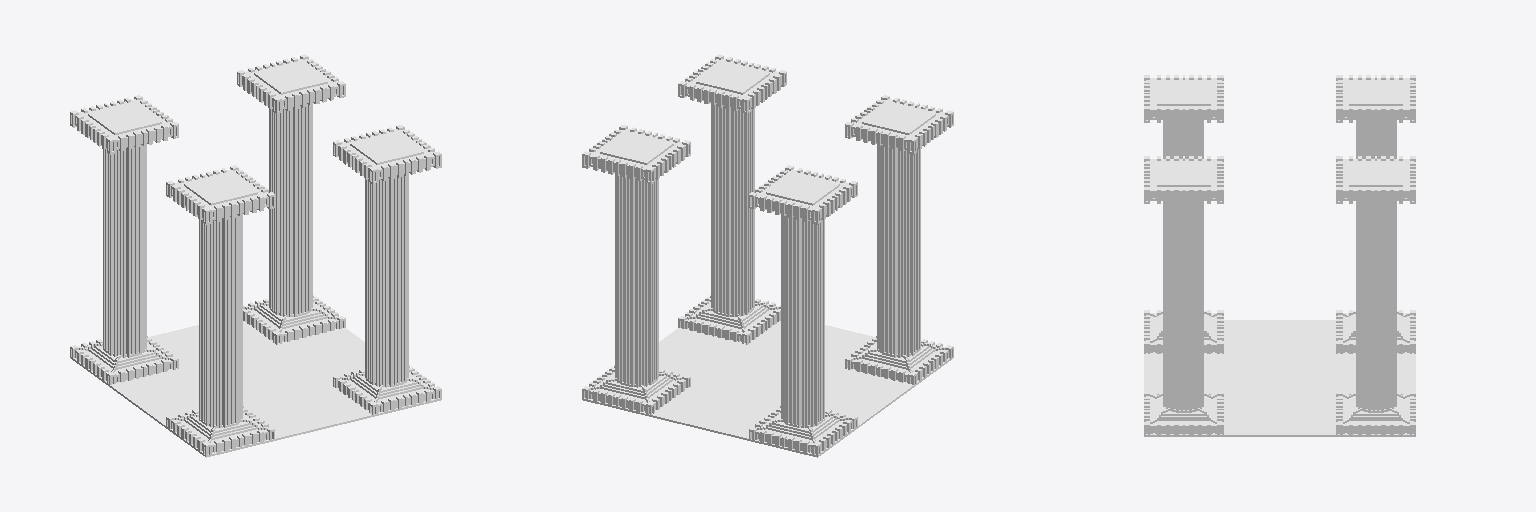
Rendered from Lobby.obj.
The picture shows the model from 3 angles: view 1: azimuth 30°, elevation 25°; view 2: azimuth 150°, elevation 25°; view 3: azimuth 270°, elevation 25°; orthographic projection.
Size of the model in its own units: 126 by 126 by 126.